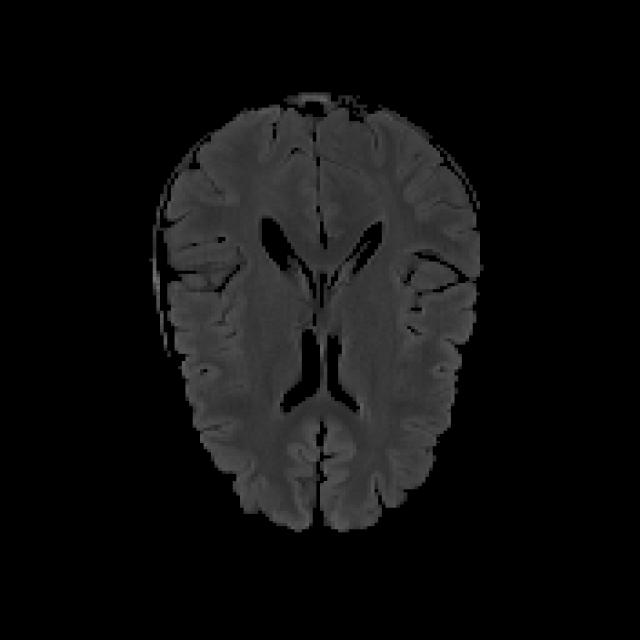CONTROL: (146, 90, 483, 532)
